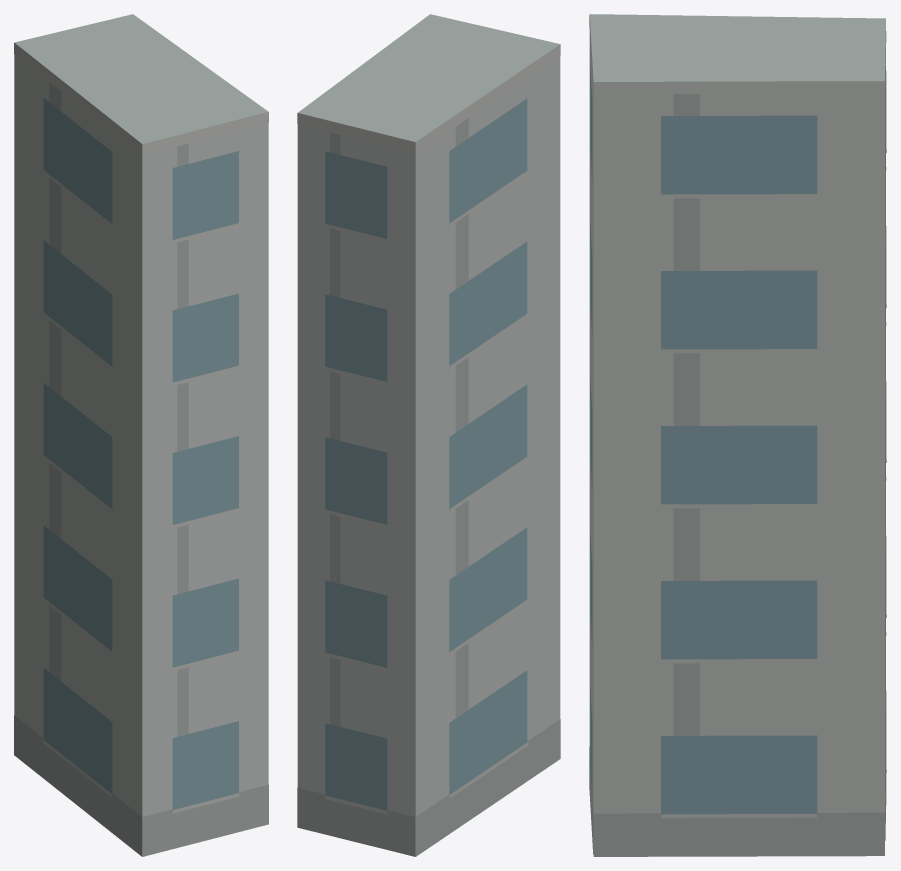
Rendered from survey-upis-32634719.glb.
3 views of the same model, side by side, from view 1: azimuth 30°, elevation 25°; view 2: azimuth 150°, elevation 25°; view 3: azimuth 270°, elevation 25° (orthographic). The views are drawn at different scales.
Visible parts, largest first — view 1: survey-upis-32634719.tmp; view 2: survey-upis-32634719.tmp; view 3: survey-upis-32634719.tmp.
Part boxes in pixels (box(x1,y1,x2,y2)): survey-upis-32634719.tmp: box(14, 14, 268, 856); survey-upis-32634719.tmp: box(297, 14, 560, 856); survey-upis-32634719.tmp: box(589, 14, 886, 856).
Size of the model in its own units: 2.88 by 15.25 by 5.3.
